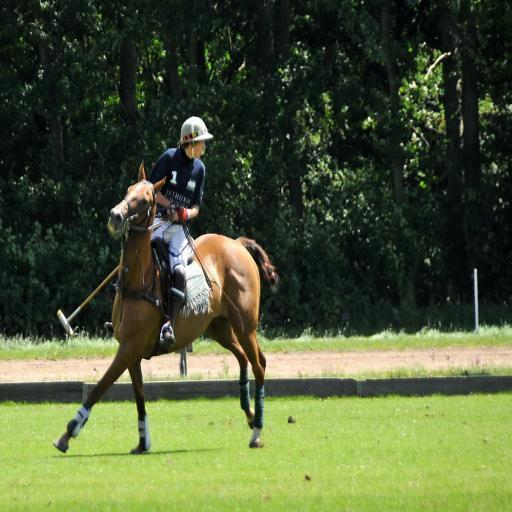horse: (54, 159, 279, 450)
